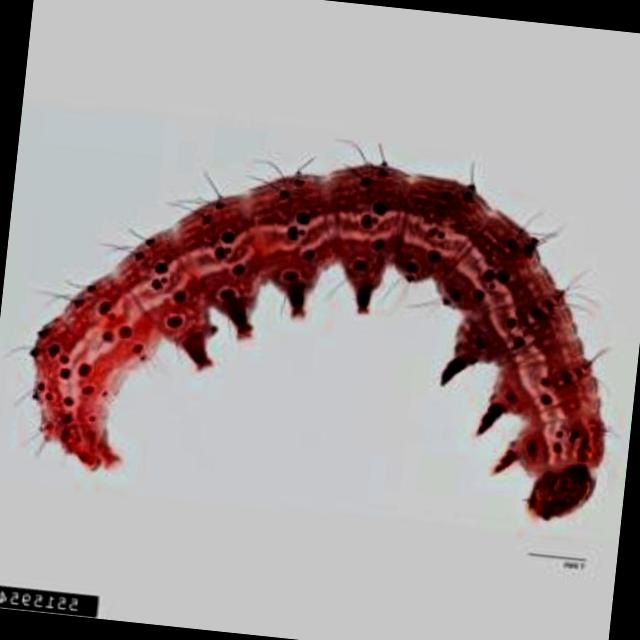Cotton bollworm: (1, 87, 640, 553)
